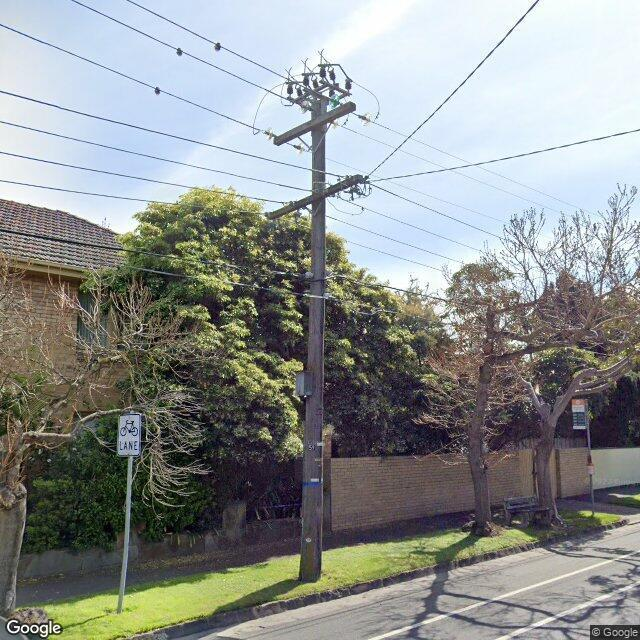HV-switch: (281, 48, 352, 112)
HV-transmission: (266, 98, 373, 154)
crossarm: (266, 174, 364, 221), (274, 99, 356, 146)
timber-pole: (298, 94, 329, 583)
